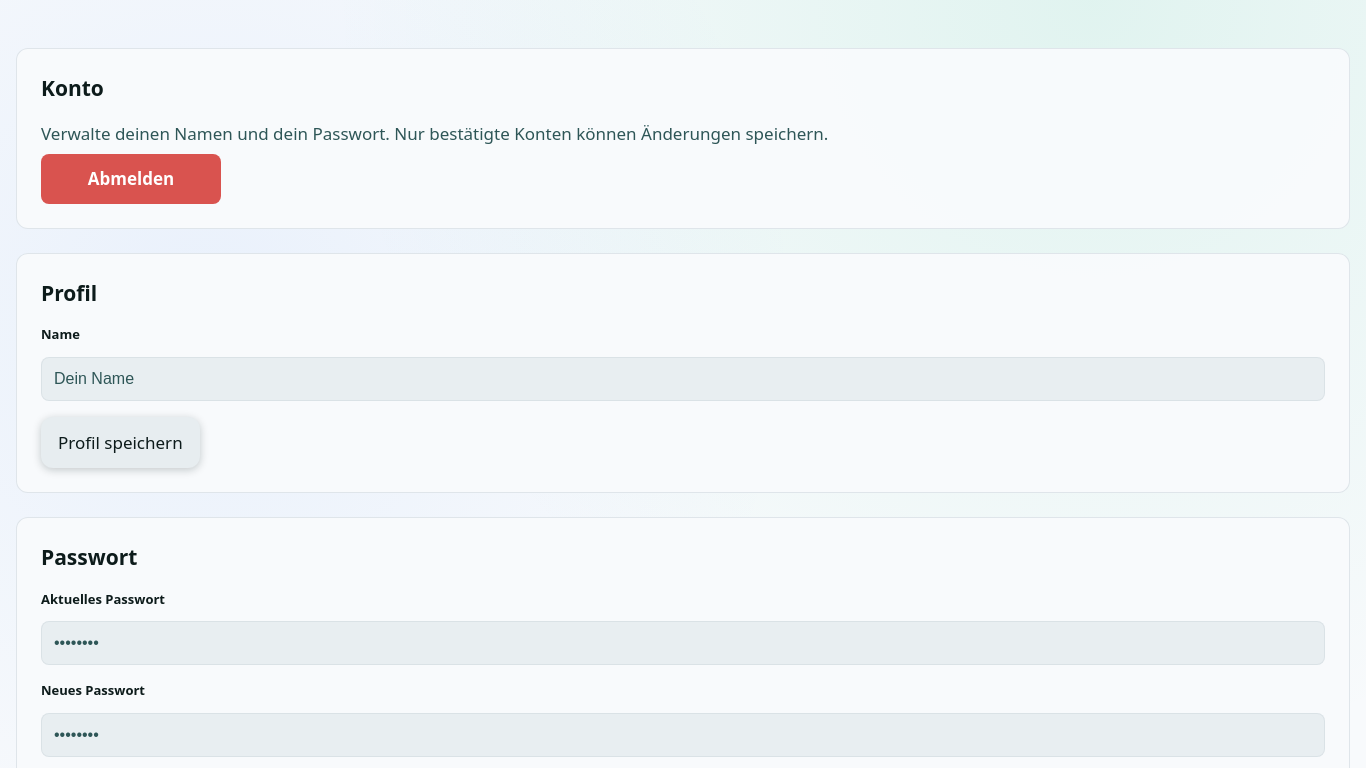
Test: UserSettings › meldet das Konto ab und leert gespeicherte Token
The width and height of the screenshot is (1366, 768).
Click the button "Abmelden". click: coordinates (131, 179)
box: [41,154,221,204]
(page scrolled)
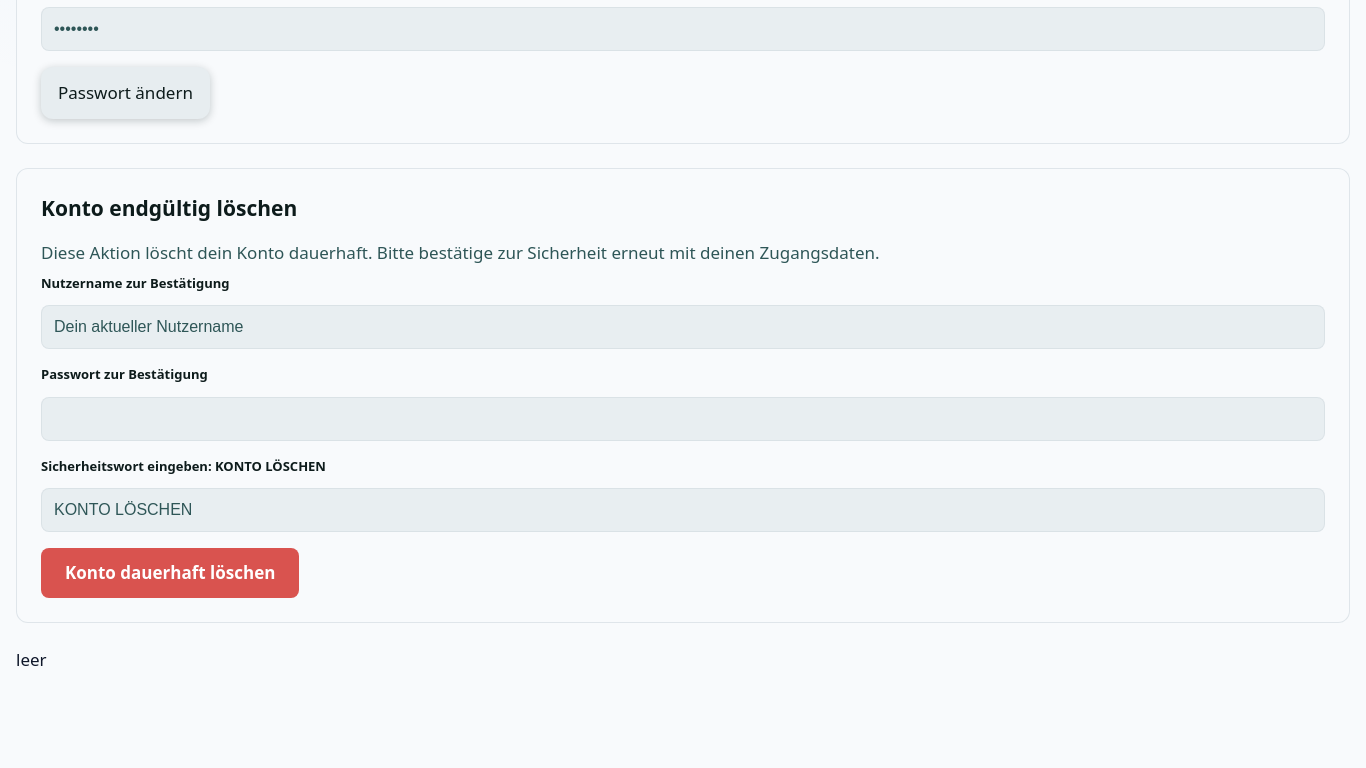
Now the text with test id "token-probe" reads "leer", box [16,648,47,670]
